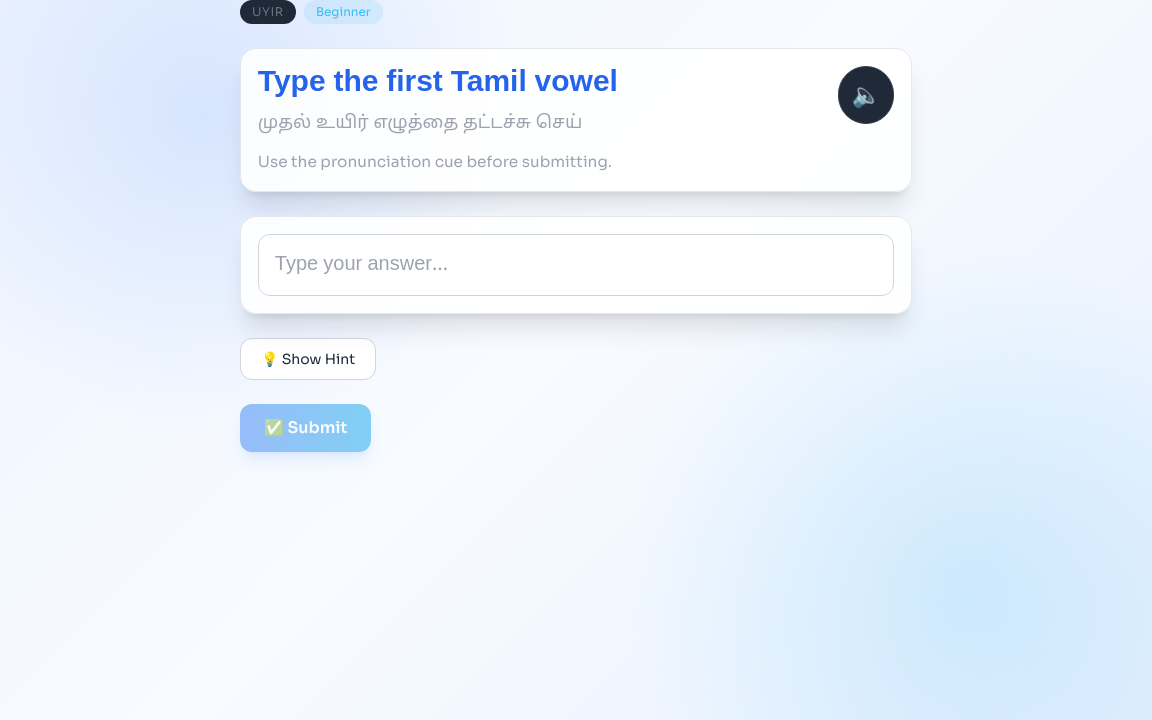
Test: AdaptiveLesson UI behavior › intermediate mode hides hint initially and reveals it on click
The width and height of the screenshot is (1152, 720).
Expected: the text "Hint:" is not shown
Click the button "💡 Show Hint".
click(308, 359)  # box left=240, top=338, right=376, bottom=380
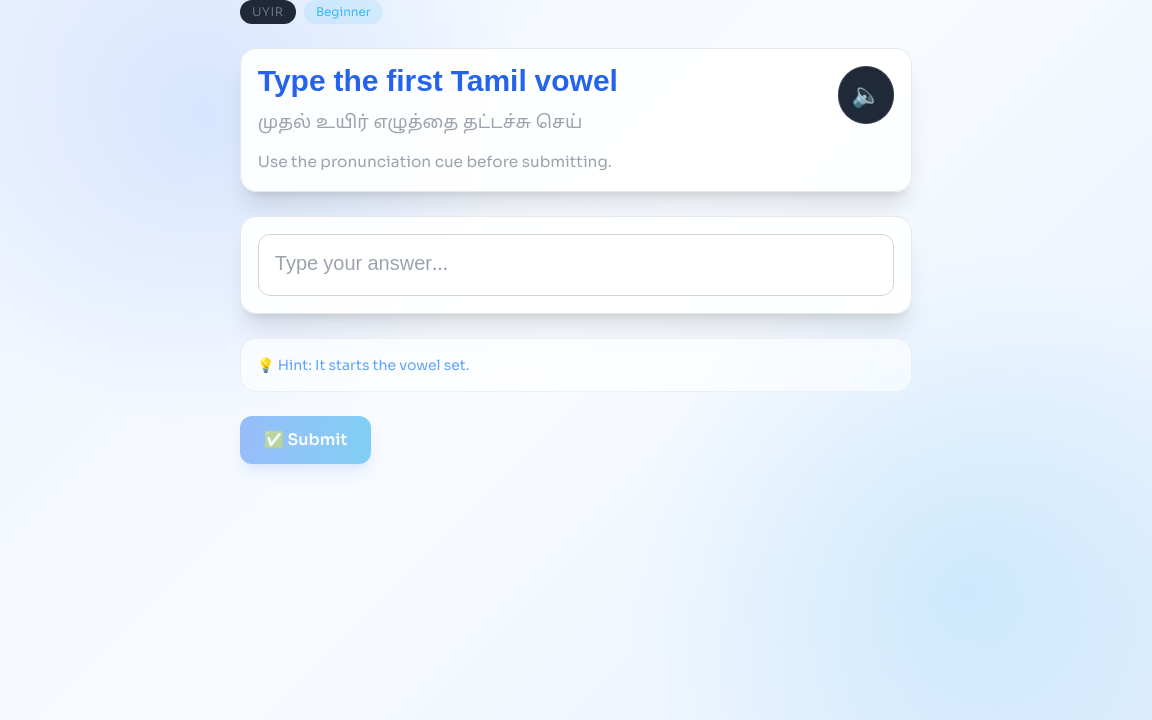
Result: the text "Hint:" is shown at left=278, top=356, right=312, bottom=374
